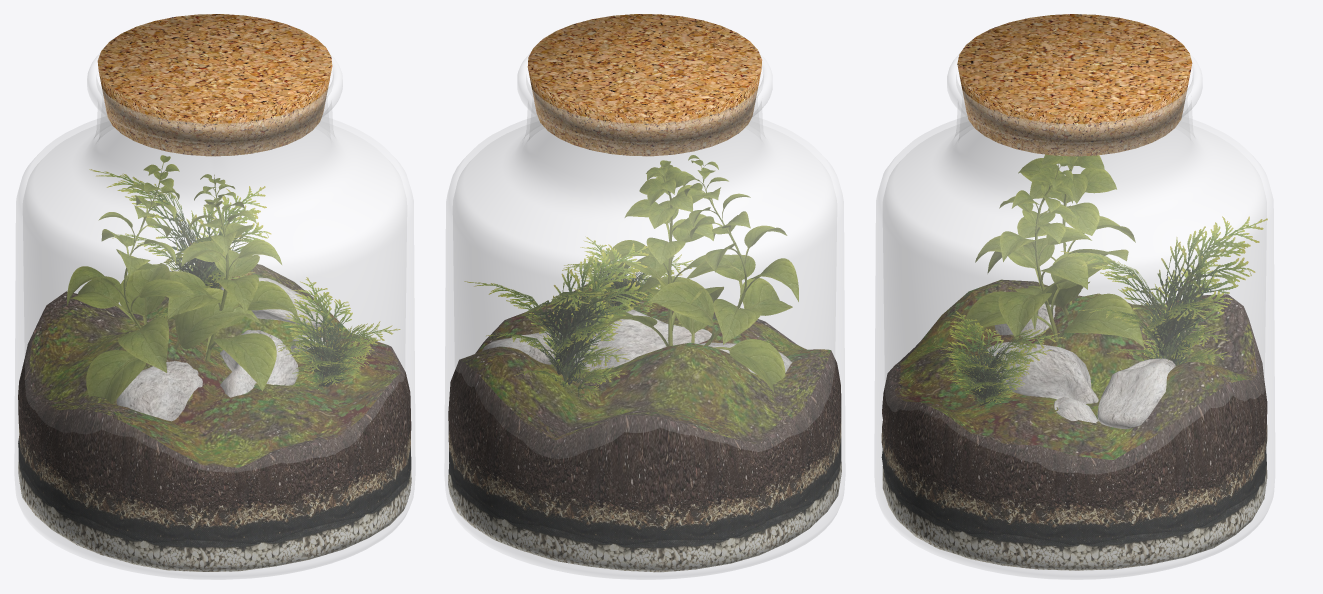
File: terrarium.glb
3 views of the same model, side by side, from view 1: azimuth 30°, elevation 25°; view 2: azimuth 150°, elevation 25°; view 3: azimuth 270°, elevation 25° (orthographic).
Visible parts, largest first — view 1: Object_4, Object_11, Object_7, Object_8, Object_6, Object_9, Object_10, Object_5; view 2: Object_4, Object_11, Object_7, Object_6, Object_8, Object_9, Object_10, Object_5; view 3: Object_4, Object_11, Object_7, Object_6, Object_8, Object_9, Object_10, Object_5.
Boxes of the visible parts, bbox=[...] form: Object_4: bbox=[14, 54, 415, 579]; Object_11: bbox=[23, 78, 406, 471]; Object_7: bbox=[18, 311, 411, 571]; Object_8: bbox=[29, 264, 400, 467]; Object_6: bbox=[97, 14, 332, 156]; Object_9: bbox=[66, 155, 298, 403]; Object_10: bbox=[89, 169, 400, 391]; Object_5: bbox=[116, 277, 325, 421]; Object_4: bbox=[444, 54, 845, 579]; Object_11: bbox=[453, 78, 836, 458]; Object_7: bbox=[448, 319, 841, 572]; Object_6: bbox=[527, 14, 762, 156]; Object_8: bbox=[460, 279, 830, 444]; Object_9: bbox=[583, 155, 798, 392]; Object_10: bbox=[464, 237, 692, 399]; Object_5: bbox=[482, 309, 791, 374]; Object_4: bbox=[874, 55, 1274, 579]; Object_11: bbox=[883, 76, 1266, 473]; Object_7: bbox=[881, 308, 1267, 570]; Object_6: bbox=[957, 14, 1192, 156]; Object_8: bbox=[892, 279, 1256, 459]; Object_9: bbox=[959, 154, 1144, 347]; Object_10: bbox=[938, 216, 1267, 406]; Object_5: bbox=[987, 303, 1175, 428].
Size of the model in its own units: 0.195 by 0.2346 by 0.2113.
Materials: 8 (6 with a texture image).
